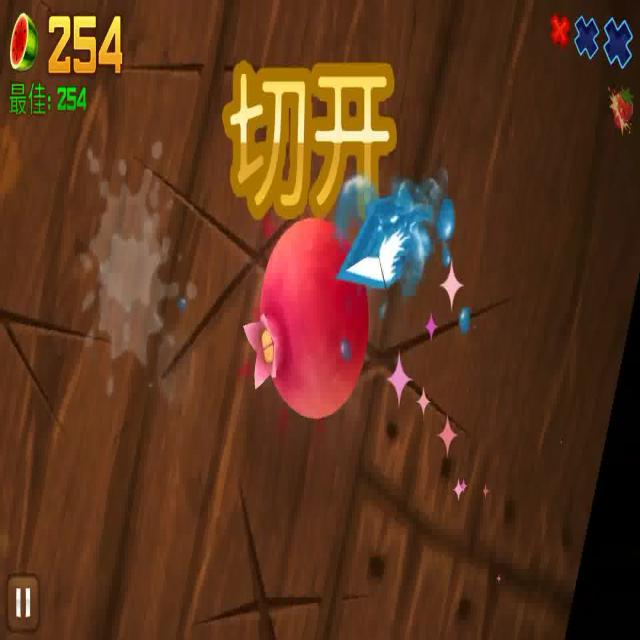fruit: (255, 214, 372, 427)
